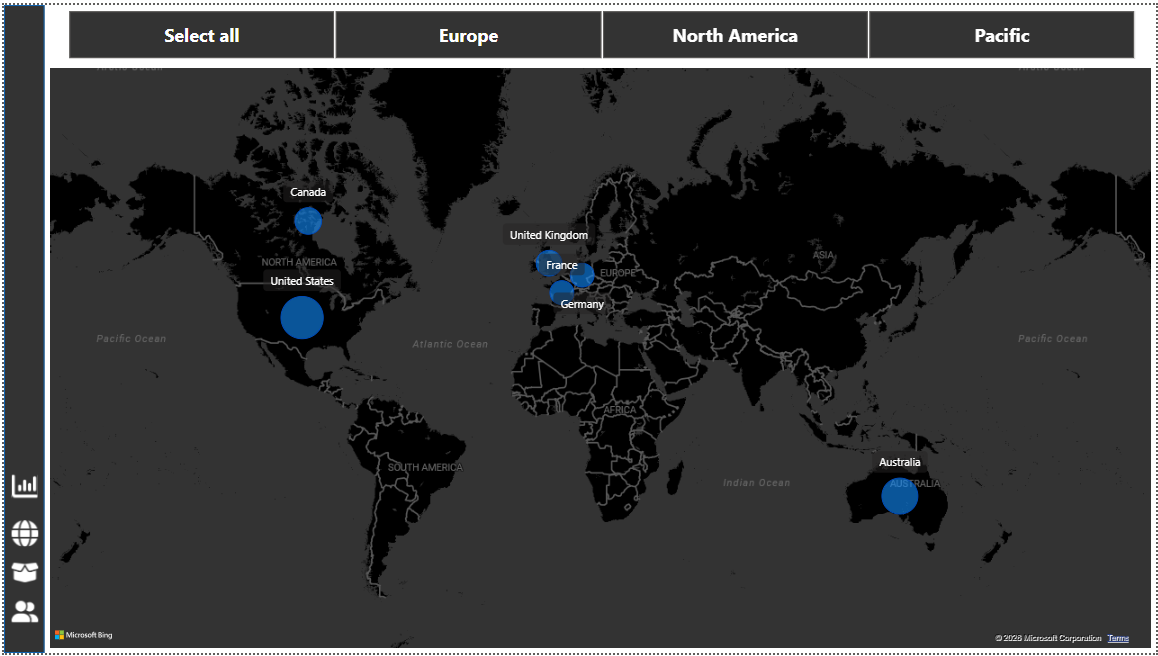

The page's visual inventory and layout, read from the dashboard file:
{"tool":"powerbi","page":{"name":"map","canvas":[1280,720],"ordinal":2},"visuals":[{"type":"shape","box":[0,0,45,720],"z":0,"group":"g1"},{"type":"slicer","fields":{"Values":["Territory Lookup.Continent"]},"box":[46.7,0,1233.3,65.6],"z":1000},{"type":"group","id":"g1","title":"Group 1","box":[0,0,45,720],"z":2000},{"type":"map","fields":{"Category":["Territory Lookup.Country"],"Size":["Table.Total Orders"]},"box":[46.7,65.6,1233.3,654.4],"z":2001},{"type":"actionButton","box":[4.4,511.8,37.1,50.6],"z":3000,"group":"g1"},{"type":"actionButton","box":[4,564.2,37.6,50.1],"z":4000,"group":"g1"},{"type":"actionButton","box":[4,608.1,37.6,50.1],"z":5000,"group":"g1"},{"type":"actionButton","box":[4,651,37.6,50.1],"z":6000,"group":"g1"}]}

Visuals, with their boxes in screenshot pixels (x1, y1, x2, y2):
shape: (x1=3, y1=6, x2=43, y2=648)
slicer - Territory Lookup.Continent: (x1=45, y1=6, x2=1145, y2=65)
"Group 1" group: (x1=3, y1=6, x2=43, y2=648)
map - Territory Lookup.Country x Table.Total Orders: (x1=45, y1=65, x2=1145, y2=648)
actionButton: (x1=7, y1=463, x2=40, y2=508)
actionButton: (x1=7, y1=509, x2=40, y2=554)
actionButton: (x1=7, y1=549, x2=40, y2=593)
actionButton: (x1=7, y1=587, x2=40, y2=632)
